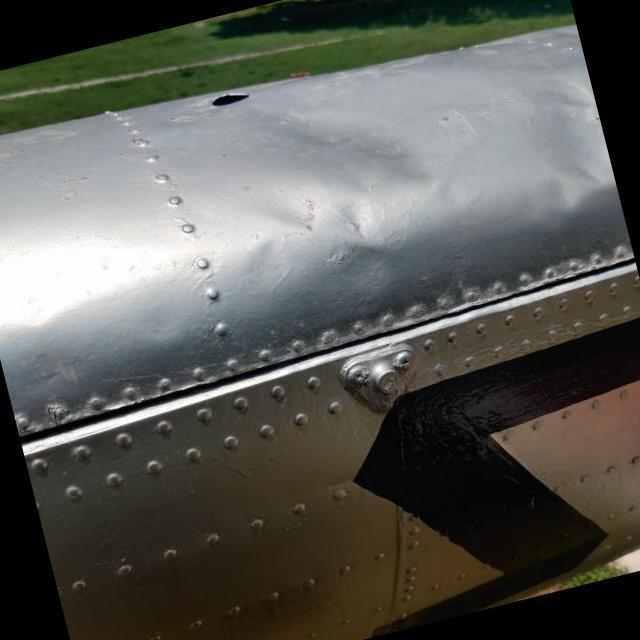Dent: (254, 59, 466, 238), (515, 135, 624, 242), (322, 226, 404, 310)
